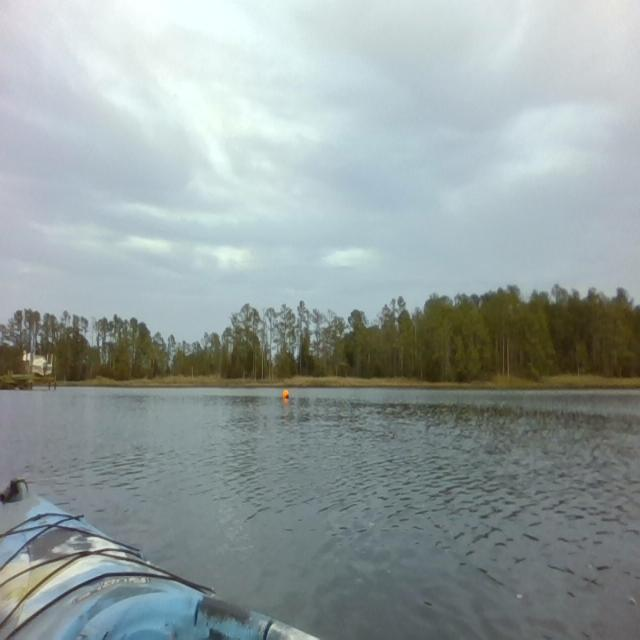Buoy: (281, 387, 291, 403)
